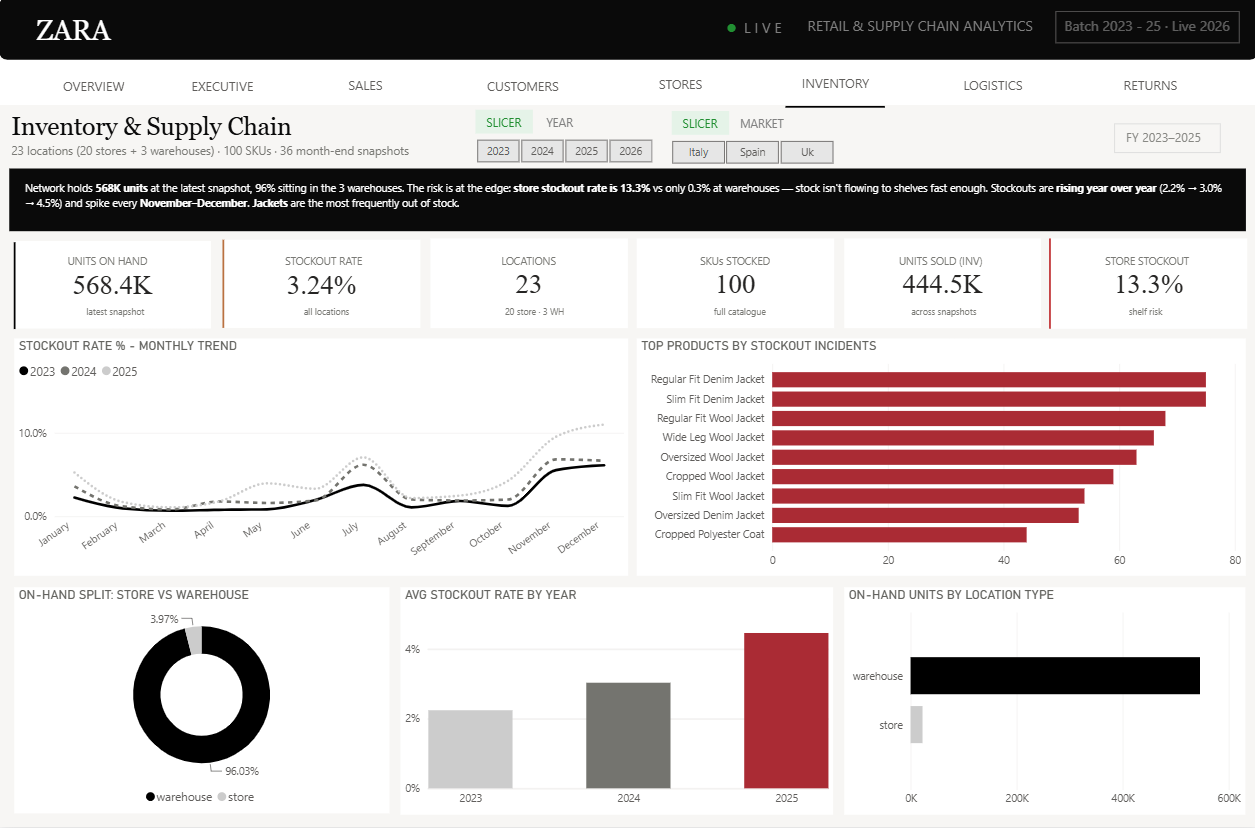

This screenshot's page, from the dashboard's own definition file:
{"tool":"powerbi","page":{"name":"INVENTORY","canvas":[1440,950],"ordinal":5},"visuals":[{"type":"shape","box":[1.7,1.7,1438.3,71.7],"z":0},{"type":"textbox","box":[39.2,16.2,112.2,48.6],"z":1000},{"type":"shape","box":[0,73.3,1440,51.7],"z":2000},{"type":"textbox","box":[10,128.9,334.4,51.1],"z":3000},{"type":"textbox","box":[10,162.7,527.3,29.1],"z":4000},{"type":"textbox","box":[1275,146.2,121.2,33.8],"z":5000},{"type":"shape","box":[13.3,196.7,1413.3,71.7],"z":6000},{"type":"textbox","box":[26.1,204.3,1382.6,58],"z":7000},{"type":"card","fields":{"Values":["_Measures.Inventory Units Sold"]},"box":[967.7,277.7,224.6,102.3],"z":8000},{"type":"card","fields":{"Values":["_Measures.SKUs Stocked"]},"box":[730,277.7,225.4,102.3],"z":9000},{"type":"card","fields":{"Values":["_Measures.Units on Hand"]},"box":[18.5,280,224.6,100],"z":10000},{"type":"card","fields":{"Values":["_Measures.Stockout Rate"]},"box":[256.9,279.2,225.4,100.8],"z":11000},{"type":"card","fields":{"Values":["_Measures.Locations Tracked"]},"box":[493.8,277.7,225.4,102.3],"z":12000},{"type":"shape","box":[12.3,280.8,12.3,99.2],"z":13000},{"type":"textbox","box":[74,288.7,120,28.7],"z":14000},{"type":"textbox","box":[95.3,345.9,81.8,29.4],"z":15000},{"type":"textbox","box":[323.1,288.5,110,29.2],"z":16000},{"type":"textbox","box":[570,288.2,91.2,30],"z":17000},{"type":"textbox","box":[797.6,288.2,96.5,30],"z":18000},{"type":"textbox","box":[813,346,81,28],"z":19000},{"type":"textbox","box":[1024.1,288.2,108.2,29.4],"z":20000},{"type":"textbox","box":[1038.2,345.9,87.1,27.6],"z":21000},{"type":"card","fields":{"Values":["_Measures.Store Stockout Rate"]},"box":[1202.3,276.9,224.6,103.1],"z":22000},{"type":"textbox","box":[1260,288.2,116.5,30],"z":23000},{"type":"textbox","box":[1287.6,345.9,60.6,28.2],"z":24000},{"type":"shape","box":[250.7,279.3,12.2,100.7],"z":25000},{"type":"textbox","box":[574,346,80,28],"z":26000},{"type":"lineChart","title":"STOCKOUT RATE % - MONTHLY TREND","fields":{"Category":["gold dim_date.full_date.Variation.Date Hierarchy.Year","gold dim_date.full_date.Variation.Date Hierarchy.Quarter","gold dim_date.full_date.Variation.Date Hierarchy.Month","gold dim_date.full_date.Variation.Date Hierarchy.Day"],"Series":["gold dim_date.year"],"Y":["_Measures.Stockout Rate"]},"box":[18.8,391.3,701.4,271],"z":27000},{"type":"donutChart","title":"ON-HAND SPLIT: STORE VS WAREHOUSE","fields":{"Category":["gold dim_location.location_type"],"Y":["_Measures.Units on Hand"]},"box":[18.6,675.7,428.6,258.6],"z":28000},{"type":"barChart","title":"TOP PRODUCTS BY STOCKOUT INCIDENTS","fields":{"Y":["_Measures.Stockout Incidents"],"Category":["gold dim_products.product_name"]},"box":[730,391.4,695.7,271.4],"z":29000},{"type":"textbox","box":[344.5,346,64,27.5],"z":30000},{"type":"shape","box":[1195.7,277,13,103],"z":31000},{"type":"columnChart","title":"AVG STOCKOUT RATE BY YEAR","fields":{"Category":["gold dim_date.full_date.Variation.Date Hierarchy.Year"],"Y":["_Measures.Stockout Rate"]},"box":[460,675.7,494.3,260],"z":32000},{"type":"barChart","title":"ON-HAND UNITS BY LOCATION TYPE","fields":{"Y":["_Measures.Units on Hand"],"Category":["gold dim_location.location_type"]},"box":[967.1,675.7,458.6,260],"z":33000},{"type":"shape","box":[900.6,104.1,113.5,44.7],"z":34000},{"type":"actionButton","box":[182.9,75.7,147.4,53.9],"z":35000},{"type":"actionButton","box":[330.4,74.3,179.7,54.1],"z":36000},{"type":"actionButton","box":[510.1,75.7,179.7,54.1],"z":37000},{"type":"actionButton","box":[689.6,73.2,180,54.7],"z":38000},{"type":"actionButton","box":[867.5,71.6,180,54.7],"z":39000},{"type":"actionButton","box":[1047.6,73.8,180,54.3],"z":40000},{"type":"actionButton","box":[1226.7,75,180,54.4],"z":41000},{"type":"actionButton","box":[35.6,75.6,147.4,53.7],"z":42000},{"type":"textbox","box":[1208.3,16.7,210,36.7],"z":43000},{"type":"textbox","box":[911.7,16.7,283.3,36.7],"z":44000},{"type":"textbox","box":[826.7,16.7,85,36.7],"z":45000},{"type":"slicer","fields":{"Values":["gold dim_customers.country"]},"box":[743.6,158.2,234.5,34.5],"z":45004},{"type":"textbox","box":[770,130.9,65.5,27.3],"z":45005},{"type":"textbox","box":[842.2,131.1,70,31.1],"z":45006},{"type":"slicer","fields":{"Values":["gold dim_date.full_date.Variation.Date Hierarchy.Year"]},"box":[520.9,157.3,250,34.5],"z":45007},{"type":"textbox","box":[546.4,130,65.5,27.3],"z":45008},{"type":"textbox","box":[620.9,130,49.1,27.3],"z":45009}]}

Visuals, with their boxes in screenshot pixels (x1, y1, x2, y2), scaled from the page's 1440x950 canvas onto the 1255x828 screenshot:
shape: {"x1": 1, "y1": 1, "x2": 1254, "y2": 64}
textbox: {"x1": 34, "y1": 14, "x2": 132, "y2": 56}
shape: {"x1": 0, "y1": 64, "x2": 1254, "y2": 109}
textbox: {"x1": 9, "y1": 112, "x2": 300, "y2": 157}
textbox: {"x1": 9, "y1": 142, "x2": 468, "y2": 167}
textbox: {"x1": 1111, "y1": 127, "x2": 1217, "y2": 157}
shape: {"x1": 12, "y1": 171, "x2": 1243, "y2": 234}
textbox: {"x1": 23, "y1": 178, "x2": 1228, "y2": 229}
card - _Measures.Inventory Units Sold: {"x1": 843, "y1": 242, "x2": 1039, "y2": 331}
card - _Measures.SKUs Stocked: {"x1": 636, "y1": 242, "x2": 833, "y2": 331}
card - _Measures.Units on Hand: {"x1": 16, "y1": 244, "x2": 212, "y2": 331}
card - _Measures.Stockout Rate: {"x1": 224, "y1": 243, "x2": 420, "y2": 331}
card - _Measures.Locations Tracked: {"x1": 430, "y1": 242, "x2": 627, "y2": 331}
shape: {"x1": 11, "y1": 245, "x2": 21, "y2": 331}
textbox: {"x1": 64, "y1": 252, "x2": 169, "y2": 277}
textbox: {"x1": 83, "y1": 301, "x2": 154, "y2": 327}
textbox: {"x1": 282, "y1": 251, "x2": 377, "y2": 277}
textbox: {"x1": 497, "y1": 251, "x2": 576, "y2": 277}
textbox: {"x1": 695, "y1": 251, "x2": 779, "y2": 277}
textbox: {"x1": 709, "y1": 302, "x2": 779, "y2": 326}
textbox: {"x1": 893, "y1": 251, "x2": 987, "y2": 277}
textbox: {"x1": 905, "y1": 301, "x2": 981, "y2": 326}
card - _Measures.Store Stockout Rate: {"x1": 1048, "y1": 241, "x2": 1244, "y2": 331}
textbox: {"x1": 1098, "y1": 251, "x2": 1200, "y2": 277}
textbox: {"x1": 1122, "y1": 301, "x2": 1175, "y2": 326}
shape: {"x1": 218, "y1": 243, "x2": 229, "y2": 331}
textbox: {"x1": 500, "y1": 302, "x2": 570, "y2": 326}
"STOCKOUT RATE % - MONTHLY TREND" lineChart: {"x1": 16, "y1": 341, "x2": 628, "y2": 577}
"ON-HAND SPLIT: STORE VS WAREHOUSE" donutChart: {"x1": 16, "y1": 589, "x2": 390, "y2": 814}
"TOP PRODUCTS BY STOCKOUT INCIDENTS" barChart: {"x1": 636, "y1": 341, "x2": 1243, "y2": 578}
textbox: {"x1": 300, "y1": 302, "x2": 356, "y2": 326}
shape: {"x1": 1042, "y1": 241, "x2": 1053, "y2": 331}
"AVG STOCKOUT RATE BY YEAR" columnChart: {"x1": 401, "y1": 589, "x2": 832, "y2": 816}
"ON-HAND UNITS BY LOCATION TYPE" barChart: {"x1": 843, "y1": 589, "x2": 1243, "y2": 816}
shape: {"x1": 785, "y1": 91, "x2": 884, "y2": 130}
actionButton: {"x1": 159, "y1": 66, "x2": 288, "y2": 113}
actionButton: {"x1": 288, "y1": 65, "x2": 445, "y2": 112}
actionButton: {"x1": 445, "y1": 66, "x2": 601, "y2": 113}
actionButton: {"x1": 601, "y1": 64, "x2": 758, "y2": 111}
actionButton: {"x1": 756, "y1": 62, "x2": 913, "y2": 110}
actionButton: {"x1": 913, "y1": 64, "x2": 1070, "y2": 112}
actionButton: {"x1": 1069, "y1": 65, "x2": 1226, "y2": 113}
actionButton: {"x1": 31, "y1": 66, "x2": 159, "y2": 113}
textbox: {"x1": 1053, "y1": 15, "x2": 1236, "y2": 47}
textbox: {"x1": 795, "y1": 15, "x2": 1041, "y2": 47}
textbox: {"x1": 720, "y1": 15, "x2": 795, "y2": 47}
slicer - gold dim_customers.country: {"x1": 648, "y1": 138, "x2": 852, "y2": 168}
textbox: {"x1": 671, "y1": 114, "x2": 728, "y2": 138}
textbox: {"x1": 734, "y1": 114, "x2": 795, "y2": 141}
slicer - gold dim_date.full_date.Variation.Date Hierarchy.Year: {"x1": 454, "y1": 137, "x2": 672, "y2": 167}
textbox: {"x1": 476, "y1": 113, "x2": 533, "y2": 137}
textbox: {"x1": 541, "y1": 113, "x2": 584, "y2": 137}
